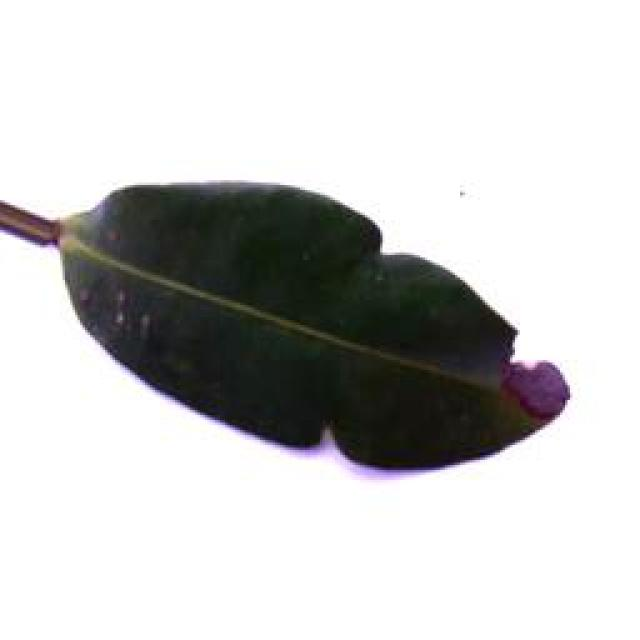Brown Blight: (57, 168, 576, 478)
